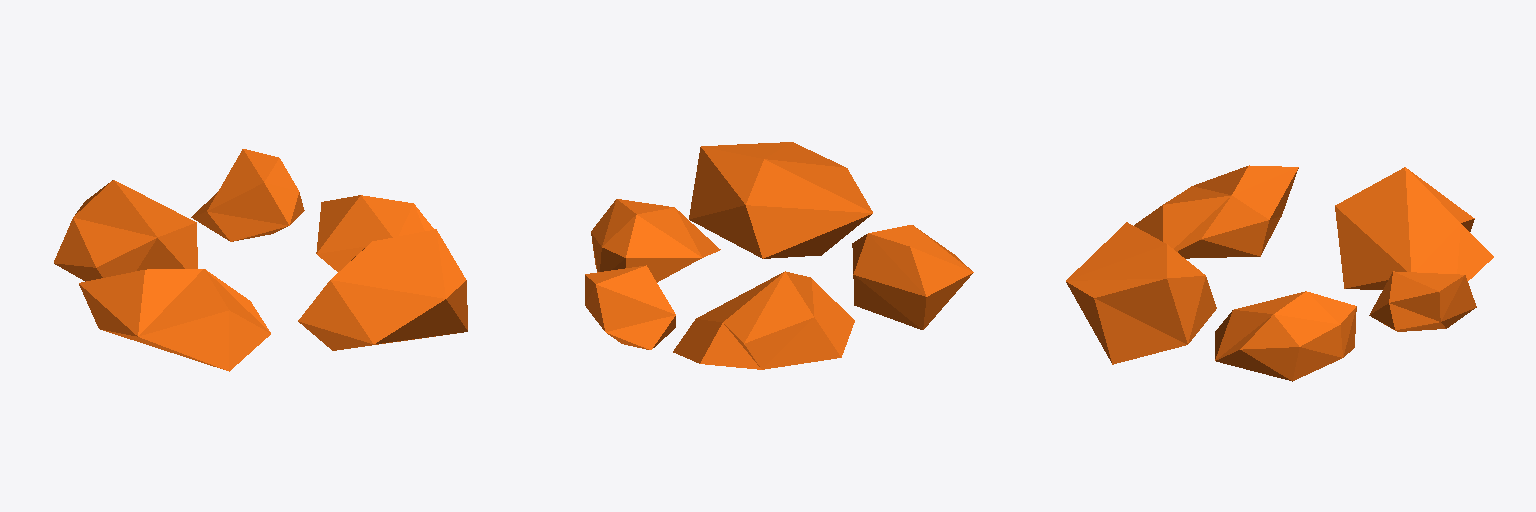
File: Copper Ore Visual.obj
The picture shows the model from 3 angles: view 1: azimuth 30°, elevation 25°; view 2: azimuth 150°, elevation 25°; view 3: azimuth 270°, elevation 25°; orthographic projection.
Visible parts, largest first — view 1: Copper Ore Visual; view 2: Copper Ore Visual; view 3: Copper Ore Visual.
Part boxes in pixels (bbox=[...]): Copper Ore Visual: bbox=[54, 149, 467, 371]; Copper Ore Visual: bbox=[585, 142, 973, 369]; Copper Ore Visual: bbox=[1066, 165, 1493, 381].
Size of the model in its own units: 0.9648 by 0.2748 by 1.07.